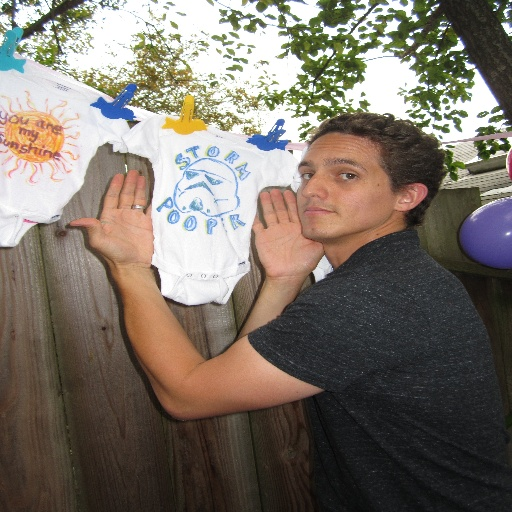hand: (245, 182, 314, 316), (67, 169, 156, 266)
